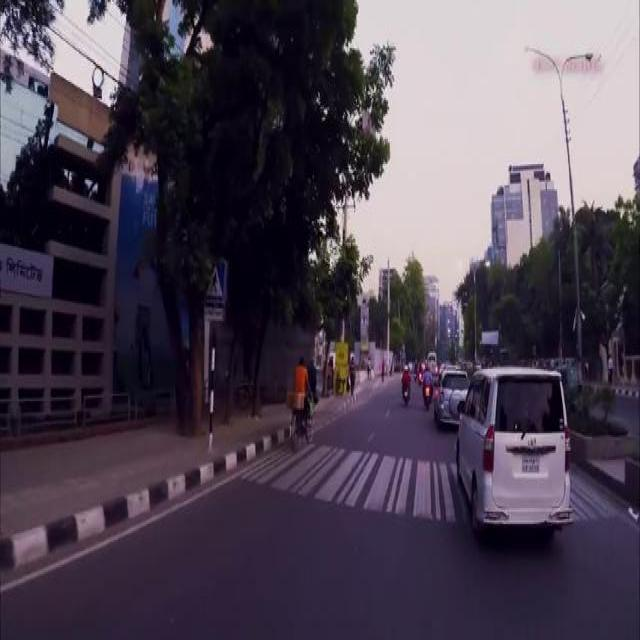10: (402, 377, 410, 402), (422, 379, 430, 404), (417, 368, 421, 379)
5: (432, 366, 468, 424)
9: (455, 363, 571, 530)
Motorcycle: (287, 390, 313, 450)
Truck: (426, 350, 436, 365)
